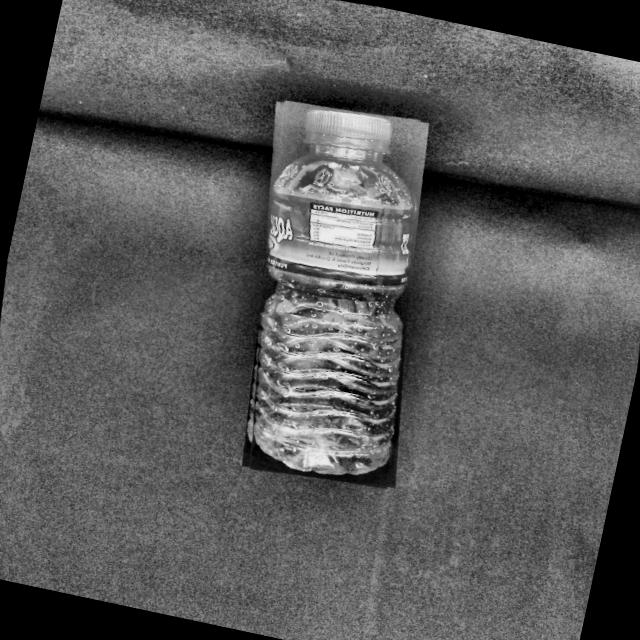Plastic-Bottle: (202, 89, 466, 496)
